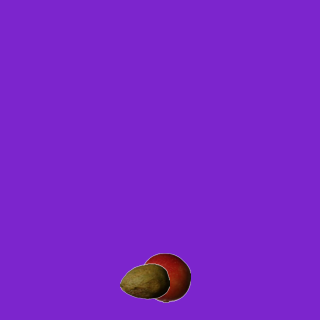Apple Braeburn: (140, 252, 190, 302)
Papaya: (119, 256, 169, 306)
